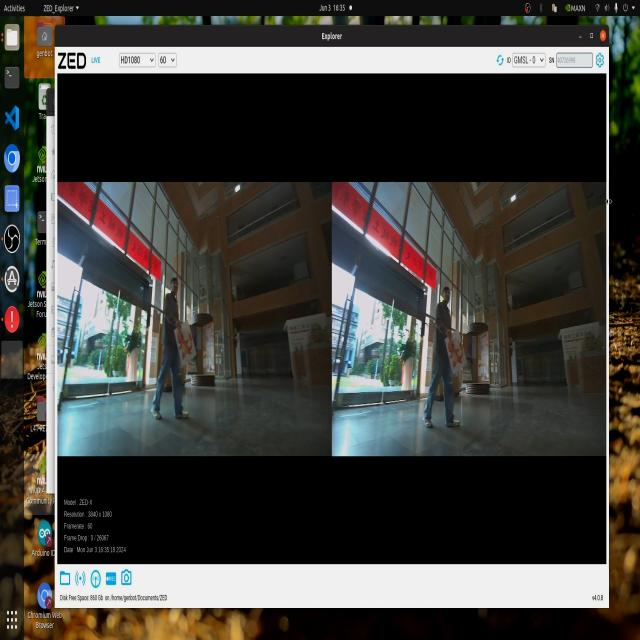red: (438, 332, 473, 368), (170, 316, 197, 360)
